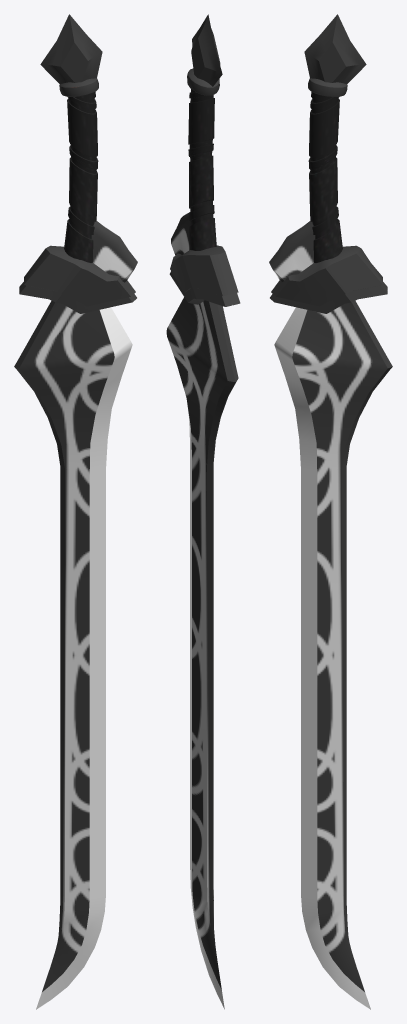
Rendered from Crystal.fbx.
3 renders of one model, left to right at view 1: azimuth 90°, elevation 25°; view 2: azimuth 210°, elevation 25°; view 3: azimuth 270°, elevation 25°, orthographic.
Visible parts, largest first — view 1: Crystal; view 2: Crystal; view 3: Crystal.
Boxes of the visible parts, left/top/right/bottom form: Crystal: left=14, top=14, right=137, bottom=1009; Crystal: left=166, top=14, right=240, bottom=1009; Crystal: left=269, top=14, right=392, bottom=1009.
Bounding box in the file's own units: 5.02 × 120 × 13.51.
1 material, 1 textured.
